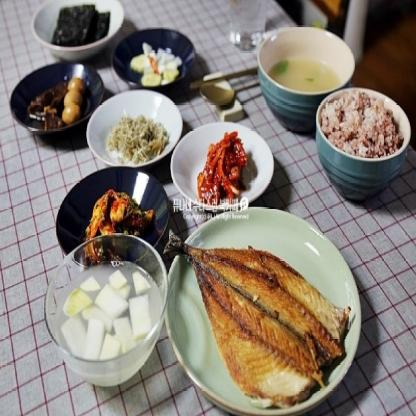Peixe: (162, 234, 352, 400)
